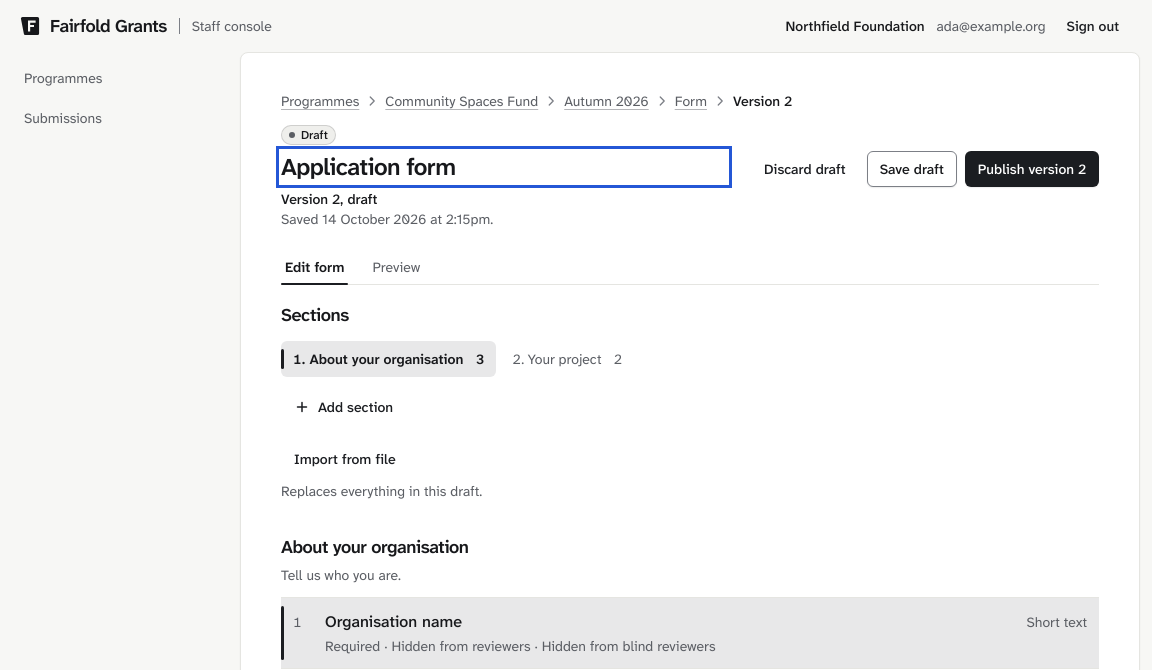
Test: discarding a draft › says why it could not, in the server's words, and keeps the draft
This screenshot has width=1152, height=670.
Check: the heading "Application form" is shown, box [281,151,455,183]
Check: the text "Version 2, draft" is shown, box [281,190,377,208]
Click the button "Discard draft".
click(805, 169)  # box [751,151,859,187]
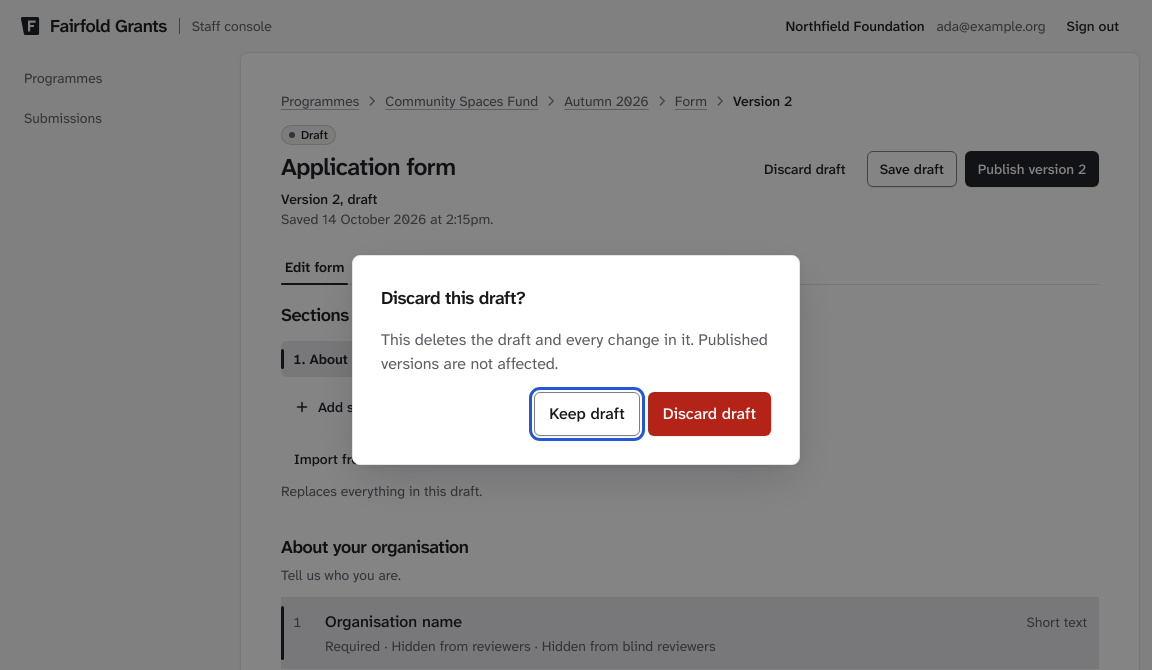
Click the button "Discard draft".
click(709, 414)  # box [648,392,771,436]
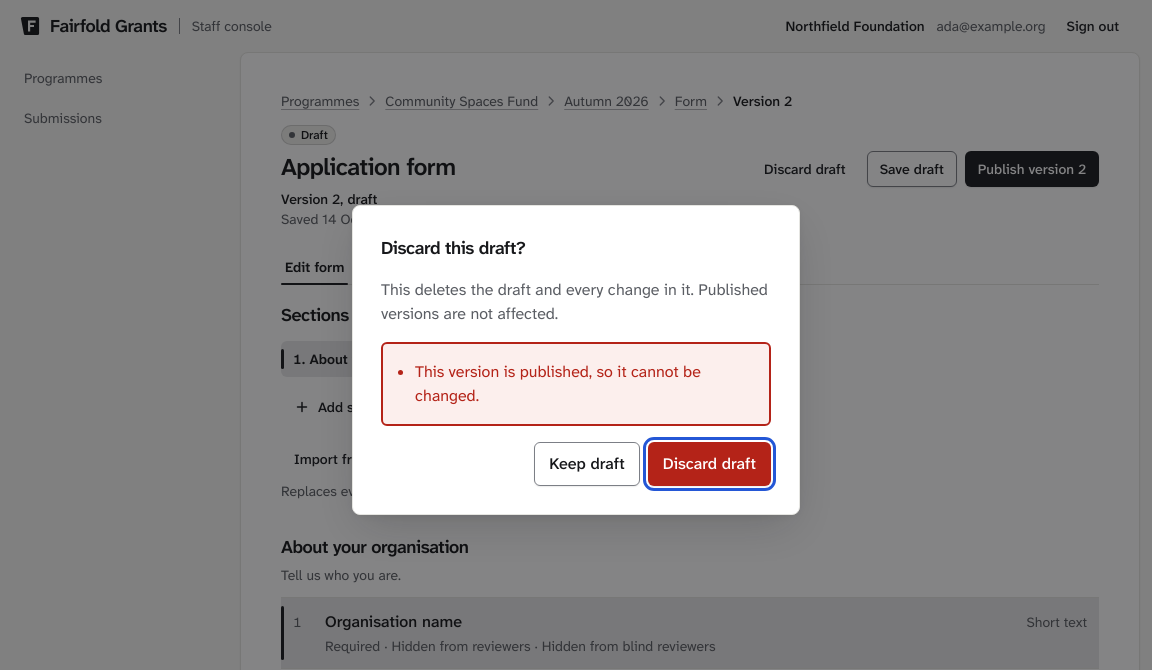
Check: the message reads "This version is published, so it cannot be changed.", box [415,361,701,406]
